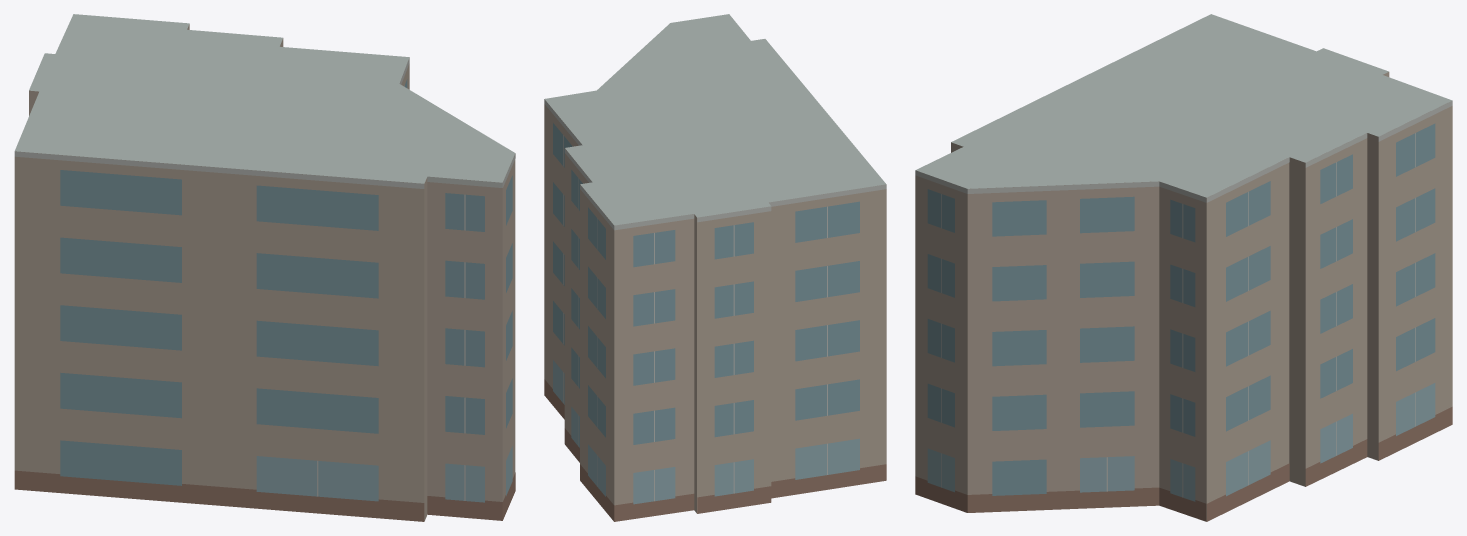
The model's file is survey-upis-32925785.glb.
The picture shows the model from 3 angles, left to right: view 1: azimuth 30°, elevation 25°; view 2: azimuth 150°, elevation 25°; view 3: azimuth 270°, elevation 25°; orthographic projection. The views are drawn at different scales.
Parts seen in each view (by area): view 1: survey-upis-32925785.tmp; view 2: survey-upis-32925785.tmp; view 3: survey-upis-32925785.tmp.
Part boxes in pixels (left/top/right/bottom): survey-upis-32925785.tmp: left=14, top=14, right=515, bottom=521; survey-upis-32925785.tmp: left=544, top=14, right=886, bottom=521; survey-upis-32925785.tmp: left=915, top=14, right=1452, bottom=521.
Bounding box in the file's own units: 18.55 × 15.25 × 22.91.
